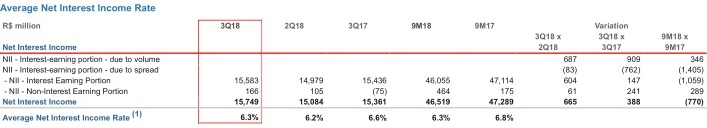column: (1, 1, 161, 128), (593, 1, 642, 128), (534, 1, 579, 128), (409, 1, 452, 128), (660, 1, 703, 128), (347, 1, 389, 128), (473, 1, 515, 128), (283, 1, 324, 128), (220, 1, 260, 128)
row: (1, 109, 707, 122), (1, 97, 707, 107), (1, 3, 707, 12), (1, 21, 707, 30), (1, 43, 707, 52), (1, 54, 707, 63), (1, 65, 707, 74), (1, 87, 707, 96), (1, 77, 707, 84)
